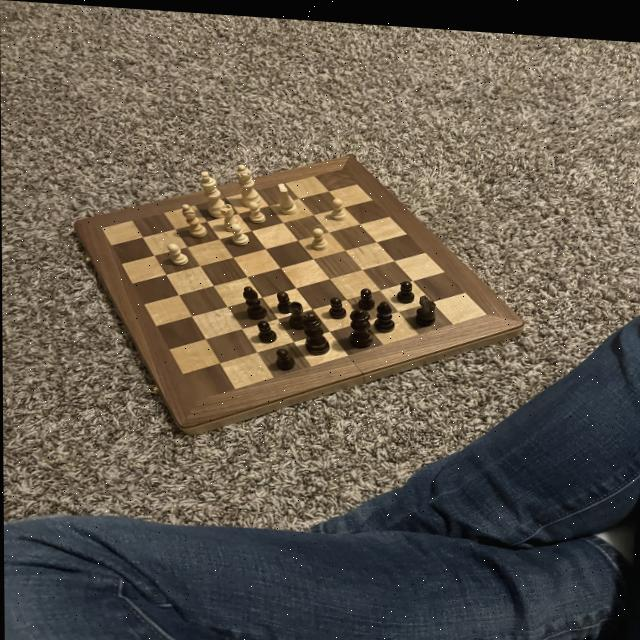bishop: (240, 281, 269, 319), (373, 294, 396, 328)
black-bishop: (299, 304, 331, 353)
black-king: (411, 287, 437, 322)
black-knight: (273, 342, 297, 368), (255, 316, 278, 342), (326, 290, 347, 317), (273, 285, 294, 311), (355, 283, 375, 308), (396, 273, 415, 298)
black-pawn: (345, 301, 374, 346)
black-queen: (286, 295, 308, 328)
black-rook: (180, 200, 209, 237)
white-bishop: (198, 166, 230, 217)
white-king: (272, 177, 299, 212)
white-knight: (308, 222, 331, 248), (165, 240, 189, 264), (227, 219, 248, 244), (246, 197, 266, 221), (329, 192, 348, 217)
white-pawn: (233, 160, 263, 206)
white-queen: (218, 199, 243, 231)
